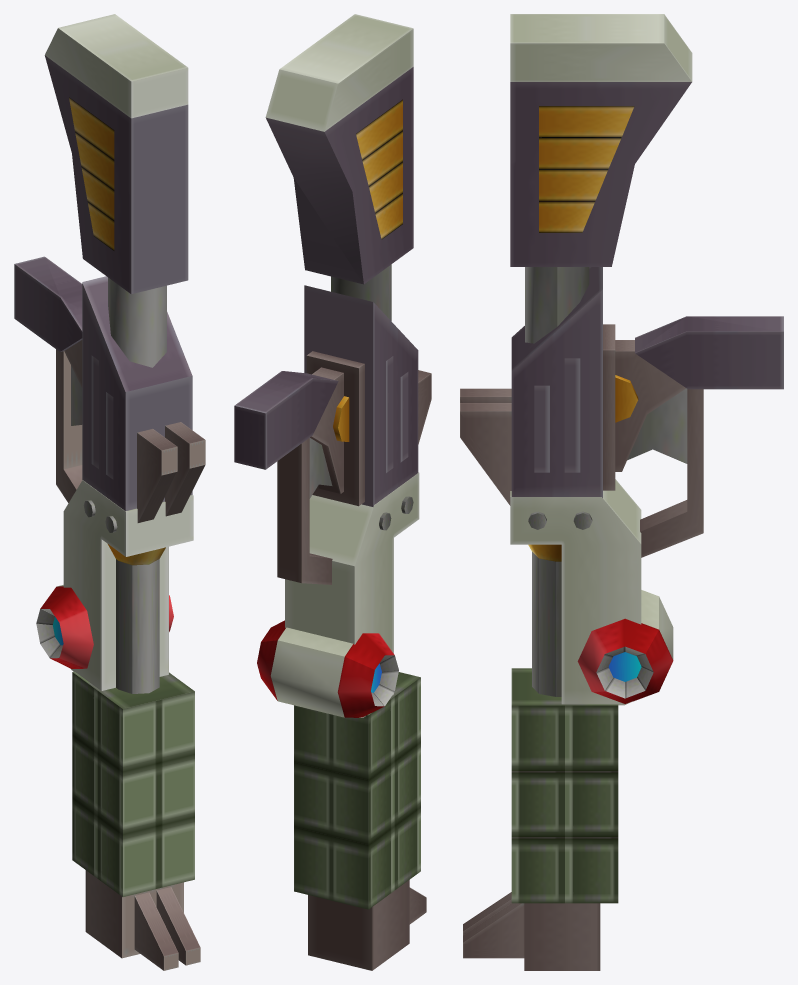
File: Axl-BlastLauncher.obj
3 views of the same model, side by side, from view 1: azimuth 30°, elevation 25°; view 2: azimuth 150°, elevation 25°; view 3: azimuth 270°, elevation 25° (orthographic). The views are drawn at different scales.
Parts seen in each view (by area): view 1: Axl-BlastLauncher; view 2: Axl-BlastLauncher; view 3: Axl-BlastLauncher.
Part boxes in pixels (bbox=[...]): Axl-BlastLauncher: bbox=[14, 14, 205, 970]; Axl-BlastLauncher: bbox=[234, 14, 431, 970]; Axl-BlastLauncher: bbox=[460, 14, 783, 970].
Size of the model in its own units: 1.65 by 12.57 by 3.98.
